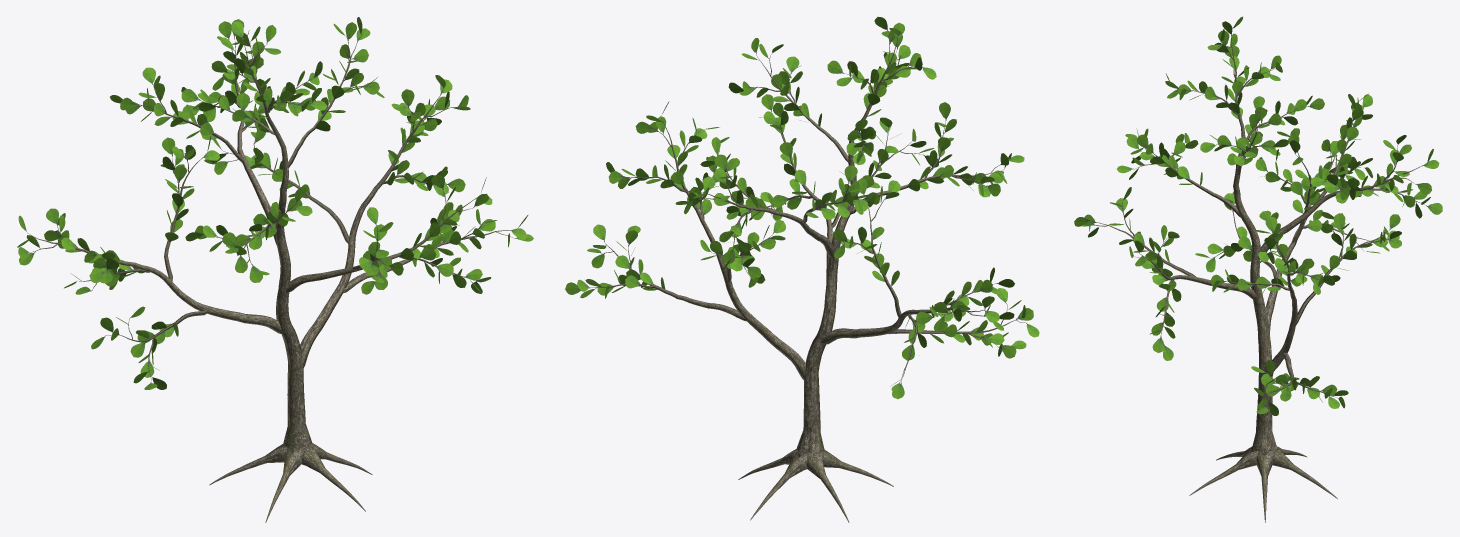
Rendered from citrus_tree.glb.
The picture shows the model from 3 angles, left to right: view 1: azimuth 30°, elevation 25°; view 2: azimuth 150°, elevation 25°; view 3: azimuth 270°, elevation 25°; orthographic projection. The views are drawn at different scales.
Parts seen in each view (by area): view 1: CitrusSourceFoliage, CitrusSourceBark; view 2: CitrusSourceFoliage, CitrusSourceBark; view 3: CitrusSourceFoliage, CitrusSourceBark.
Boxes of the visible parts, x1,y1,x2,y2 form: CitrusSourceFoliage: (17,17,533,389); CitrusSourceBark: (27,36,515,522); CitrusSourceFoliage: (565,17,1039,399); CitrusSourceBark: (589,32,1024,522); CitrusSourceFoliage: (1074,16,1442,415); CitrusSourceBark: (1091,36,1426,522).
Size of the model in its own units: 2.22 by 2.2 by 1.68.
2 materials, 2 textured.
